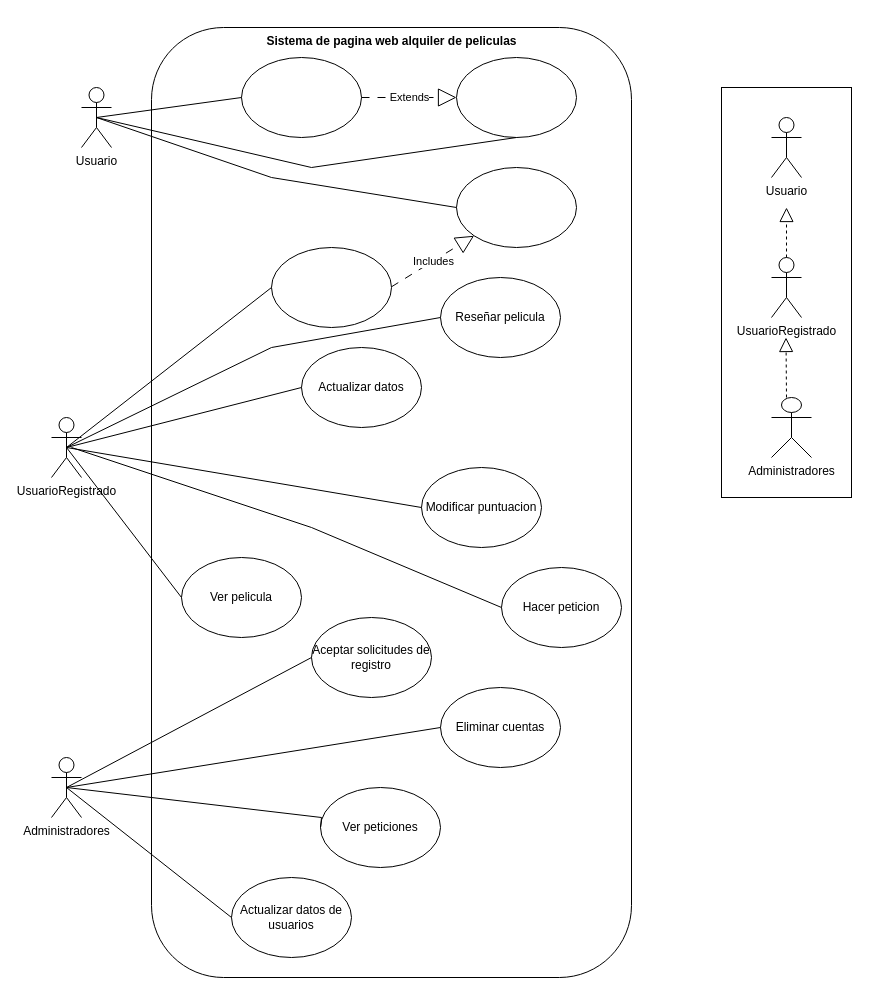
Image size: 869x995. Some labels were removed from this diagram. The centre of each missing label's shape, as x and y in pixels:
"Acceder al catálogo de peliiculas" goes at point (516, 207).
"Alquilar pelicula" goes at point (331, 287).
"Iniciar sesion Si no estas registrado" goes at point (516, 97).
"Registrarse" goes at point (301, 97).
